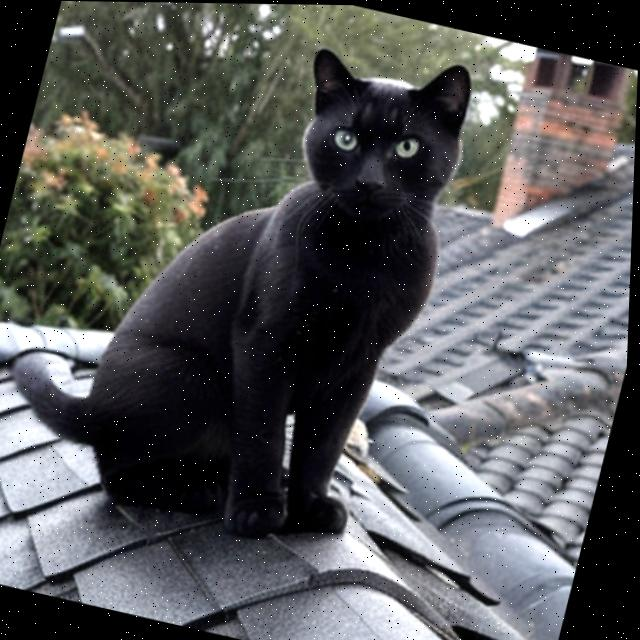cat: (39, 1, 502, 568)
